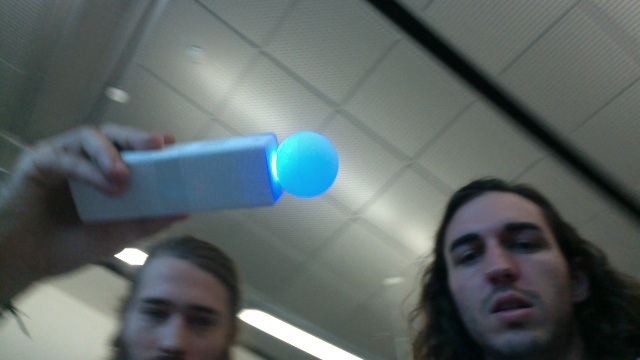wand: (278, 131, 340, 197)
